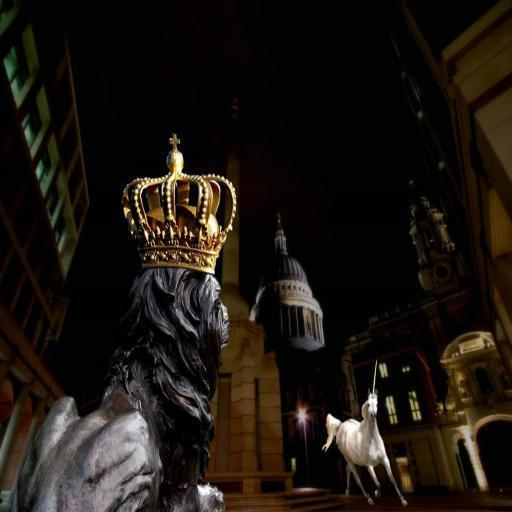horse: (322, 357, 408, 511)
